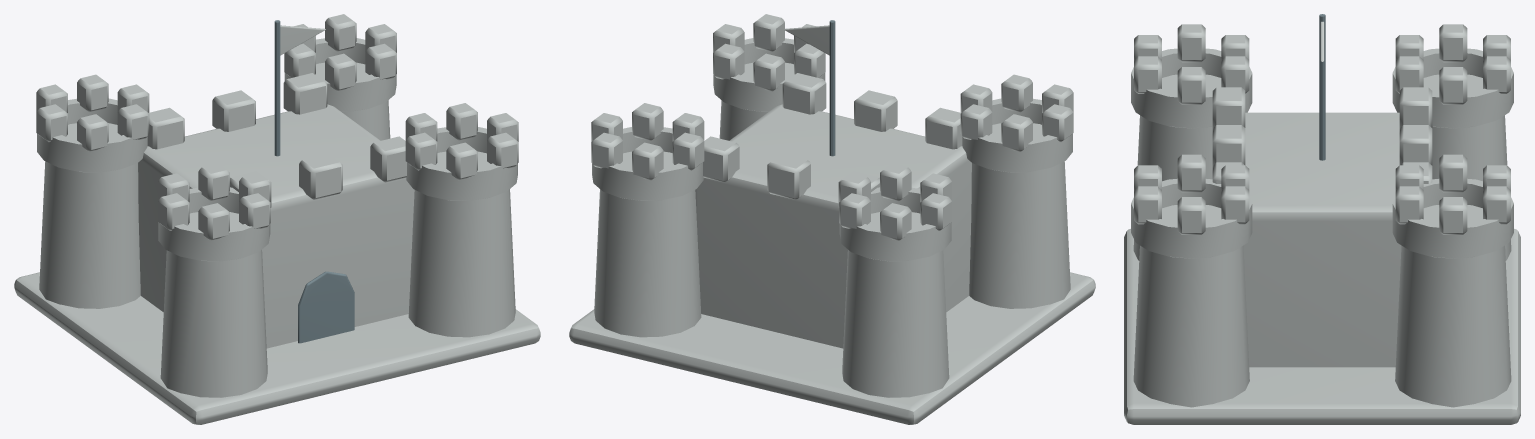
File: sandcastle.glb
3 views of the same model, side by side, from view 1: azimuth 30°, elevation 25°; view 2: azimuth 150°, elevation 25°; view 3: azimuth 270°, elevation 25° (orthographic). The views are drawn at different scales.
Visible parts, largest first — view 1: central_keep, sand_foundation, corner_tower.001, corner_tower.003, corner_tower, corner_tower.002, arched_entry, wall_merlon.003, wall_merlon.004, wall_merlon.002, wall_merlon.005, wall_merlon (+25 smaller); view 2: central_keep, sand_foundation, corner_tower, corner_tower.002, corner_tower.001, corner_tower.003, wall_merlon.002, wall_merlon.005, wall_merlon.003, wall_merlon.004, wall_merlon.001, tower_merlon.001 (+24 smaller); view 3: central_keep, corner_tower.002, corner_tower.003, sand_foundation, corner_tower, corner_tower.001, wall_merlon.002, wall_merlon.003, wall_merlon, wall_merlon.001, tower_merlon.015, tower_merlon.021 (+23 smaller).
Boxes of the visible parts, x1=… form: central_keep: x1=138, y1=104, x2=414, y2=348; sand_foundation: x1=14, y1=272, x2=540, y2=424; corner_tower.001: x1=158, y1=187, x2=270, y2=397; corner_tower.003: x1=406, y1=127, x2=517, y2=337; corner_tower: x1=37, y1=98, x2=147, y2=308; corner_tower.002: x1=284, y1=38, x2=396, y2=140; arched_entry: x1=298, y1=271, x2=354, y2=343; wall_merlon.003: x1=299, y1=154, x2=342, y2=199; wall_merlon.004: x1=283, y1=73, x2=327, y2=114; wall_merlon.002: x1=212, y1=90, x2=255, y2=131; wall_merlon.005: x1=370, y1=136, x2=406, y2=182; wall_merlon: x1=147, y1=107, x2=184, y2=149; central_keep: x1=695, y1=104, x2=971, y2=348; sand_foundation: x1=569, y1=272, x2=1095, y2=424; corner_tower: x1=839, y1=187, x2=951, y2=397; corner_tower.002: x1=592, y1=127, x2=703, y2=337; corner_tower.001: x1=962, y1=98, x2=1072, y2=308; corner_tower.003: x1=713, y1=38, x2=825, y2=140; wall_merlon.002: x1=767, y1=154, x2=810, y2=199; wall_merlon.005: x1=782, y1=73, x2=826, y2=114; wall_merlon.003: x1=854, y1=90, x2=897, y2=131; wall_merlon.004: x1=703, y1=136, x2=739, y2=182; wall_merlon.001: x1=925, y1=107, x2=962, y2=149; tower_merlon.001: x1=880, y1=163, x2=911, y2=201; central_keep: x1=1243, y1=112, x2=1401, y2=367; corner_tower.002: x1=1392, y1=178, x2=1513, y2=407; corner_tower.003: x1=1131, y1=178, x2=1252, y2=407; sand_foundation: x1=1124, y1=229, x2=1520, y2=424; corner_tower: x1=1392, y1=48, x2=1513, y2=260; corner_tower.001: x1=1131, y1=48, x2=1252, y2=260; wall_merlon.002: x1=1399, y1=125, x2=1432, y2=165; wall_merlon.003: x1=1212, y1=125, x2=1245, y2=165; wall_merlon: x1=1399, y1=87, x2=1432, y2=127; wall_merlon.001: x1=1212, y1=87, x2=1245, y2=127; tower_merlon.015: x1=1439, y1=154, x2=1467, y2=192; tower_merlon.021: x1=1177, y1=154, x2=1205, y2=192.
Bounding box in the file's own units: 0.936 × 0.76 × 0.85.
